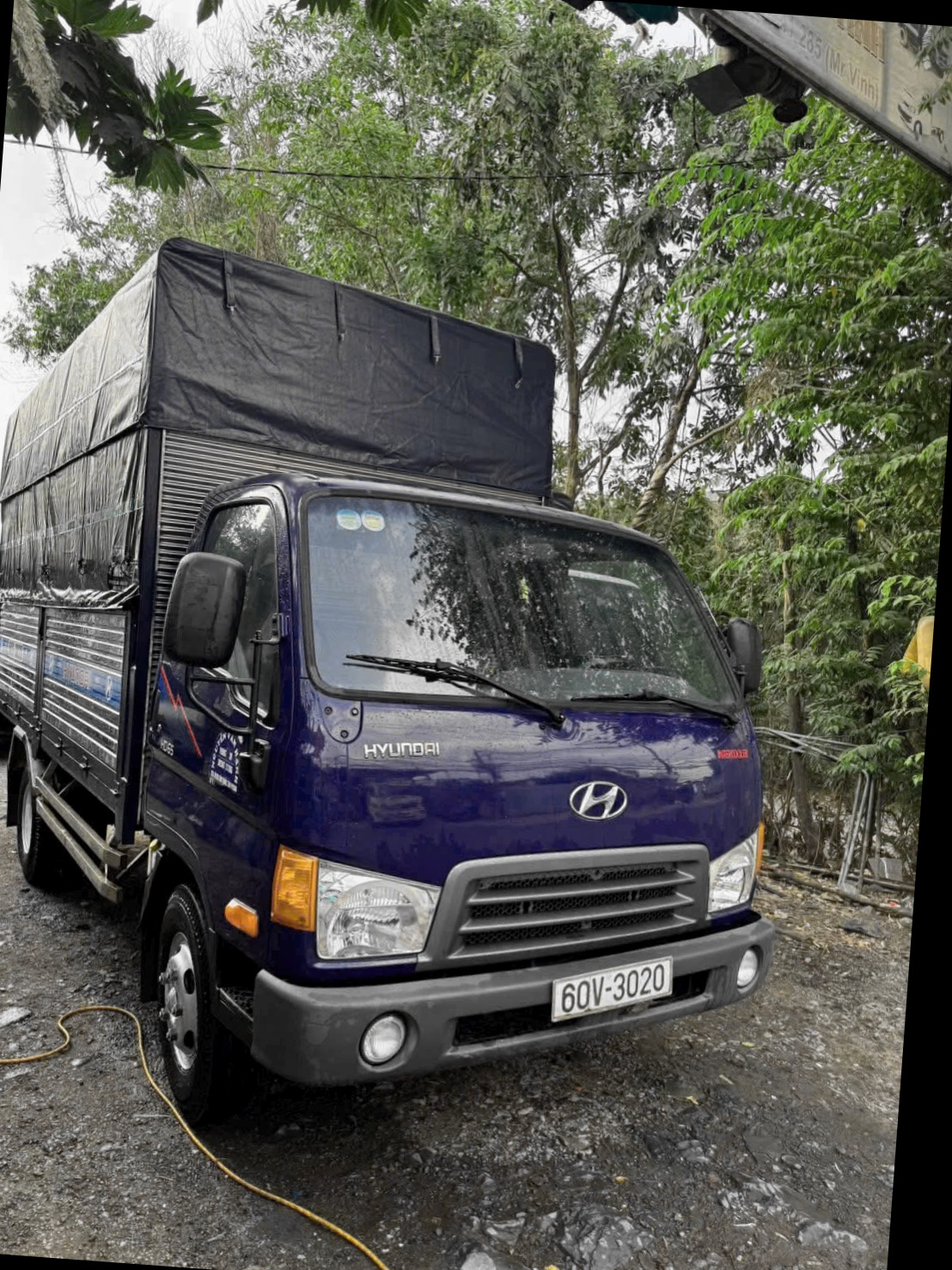Bien-so: (609, 918, 734, 996)
